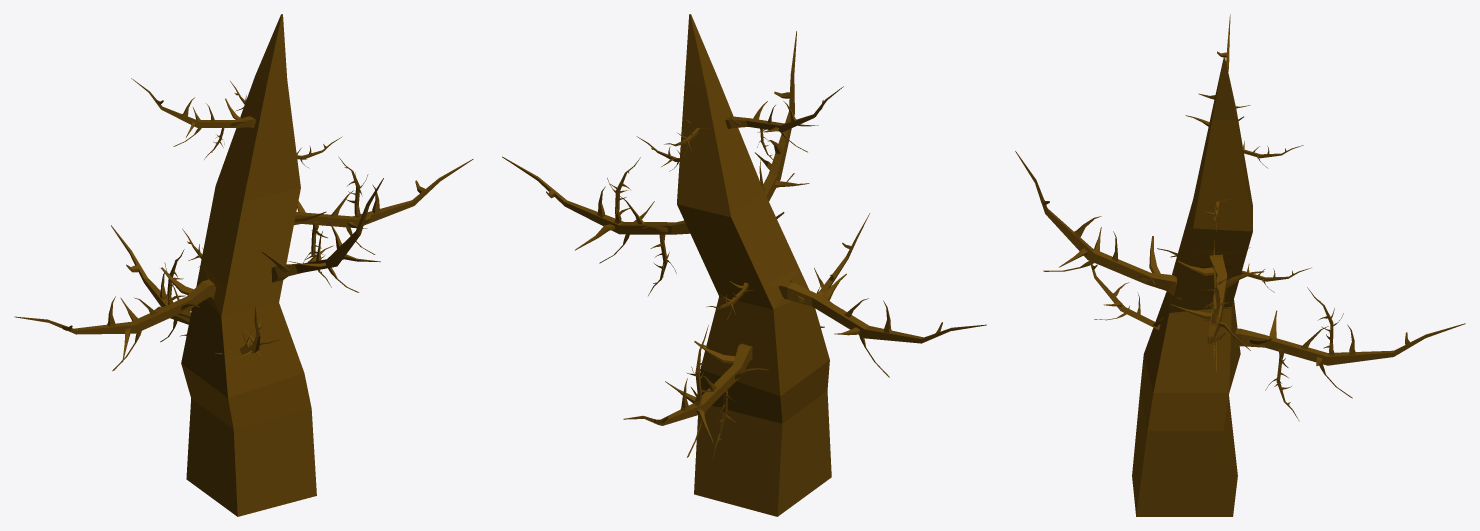
Rendered from deadbush3.fbx.
The picture shows the model from 3 angles, left to right: view 1: azimuth 30°, elevation 25°; view 2: azimuth 150°, elevation 25°; view 3: azimuth 270°, elevation 25°; orthographic projection. The views are drawn at different scales.
Parts seen in each view (by area): view 1: Cube.035; view 2: Cube.035; view 3: Cube.035.
Part boxes in pixels (bbox=[...]): Cube.035: bbox=[14, 14, 473, 516]; Cube.035: bbox=[502, 14, 986, 516]; Cube.035: bbox=[1015, 14, 1465, 516].
Size of the model in its own units: 135 by 126 by 111.
